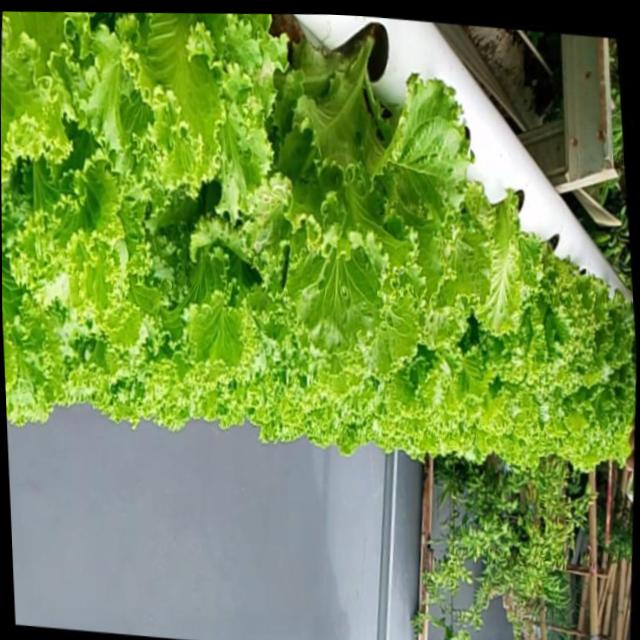Mature: (0, 11, 636, 472), (253, 17, 480, 360), (494, 220, 606, 391)
